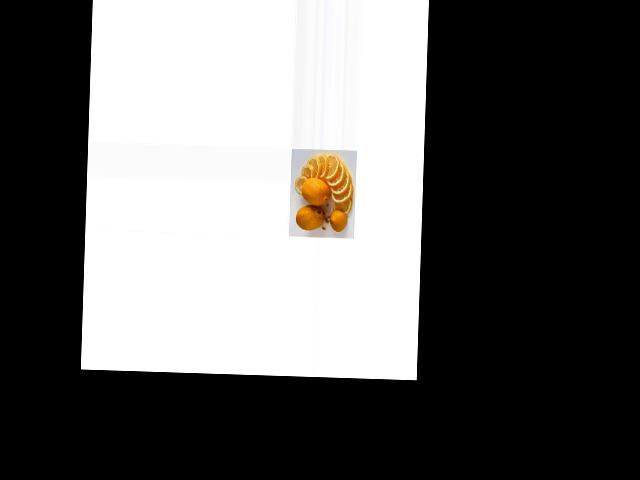lemon: (327, 210, 347, 231)
